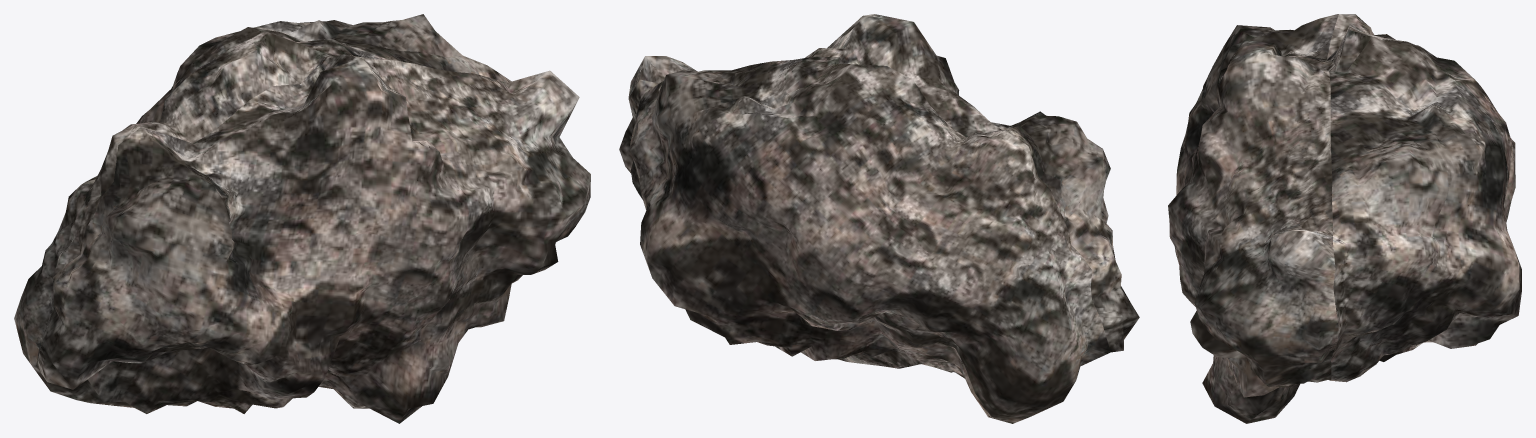
The model's file is Asteroid.fbx.
3 renders of one model, left to right at view 1: azimuth 30°, elevation 25°; view 2: azimuth 150°, elevation 25°; view 3: azimuth 270°, elevation 25°, orthographic. The views are drawn at different scales.
Parts seen in each view (by area): view 1: Asteroid; view 2: Asteroid; view 3: Asteroid.
Part boxes in pixels (x1,y1,x2,y2): Asteroid: (14,14,590,423); Asteroid: (619,14,1139,423); Asteroid: (1168,14,1521,423).
Bounding box in the file's own units: 100 × 64.62 × 59.14.
